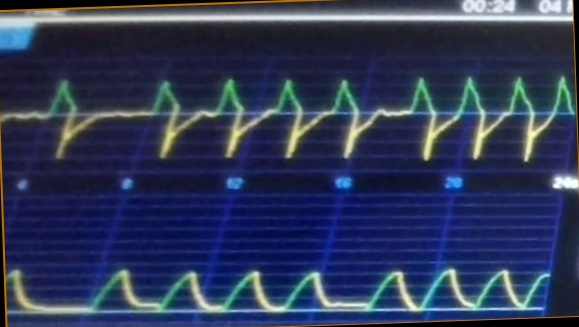Ineffective_effort Flow: (3, 68, 574, 166)
Ineffective_effort Volume: (8, 242, 550, 316)
